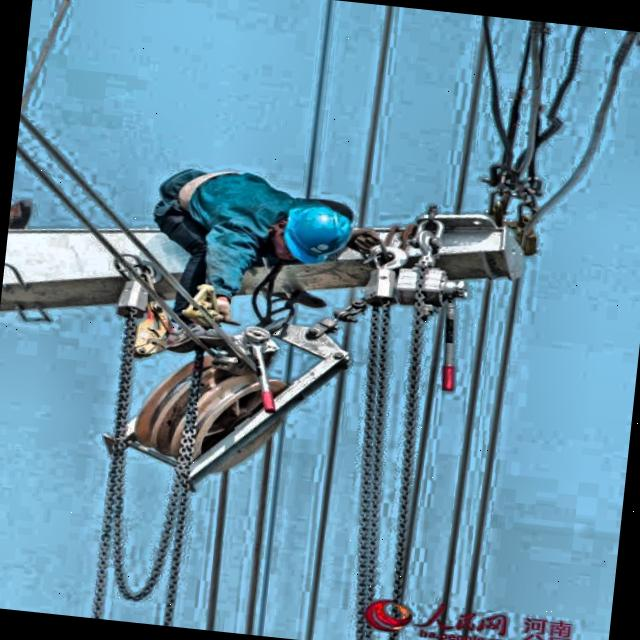helmet: (271, 190, 361, 270)
